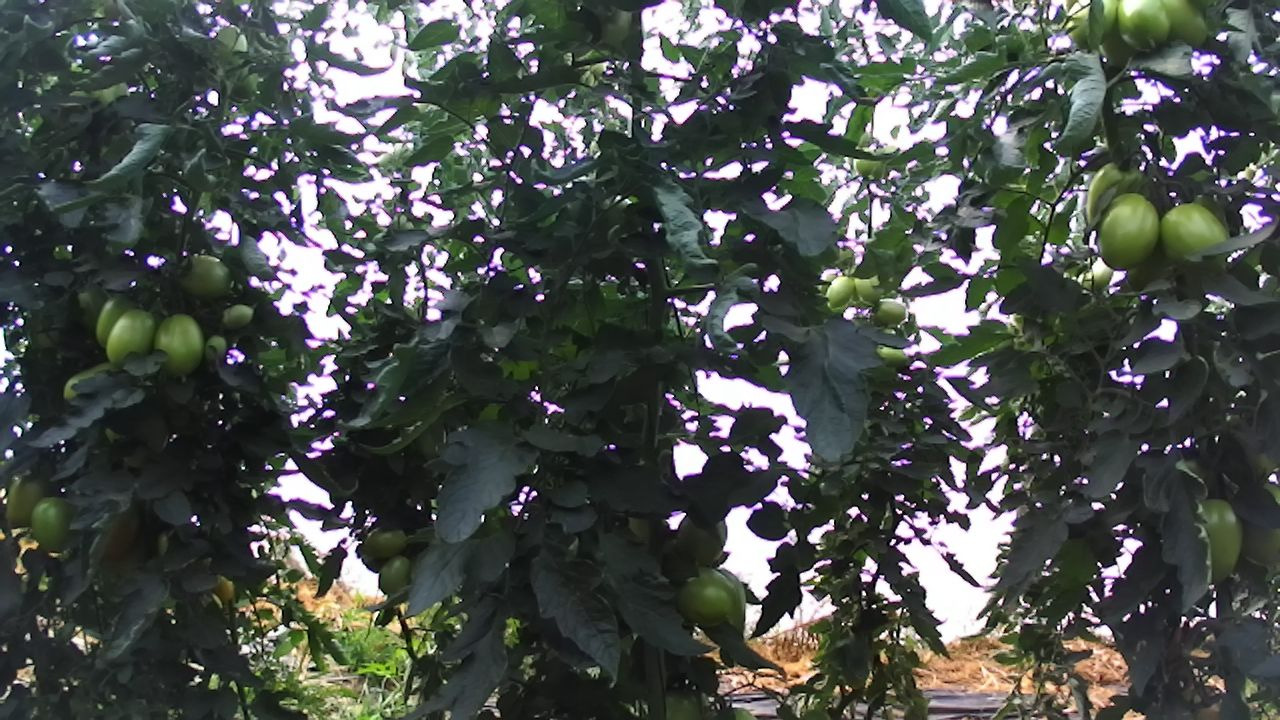tomato: (1089, 188, 1163, 275), (1187, 489, 1248, 591), (675, 559, 742, 632), (1155, 199, 1229, 265), (152, 309, 205, 382), (1112, 0, 1172, 56), (28, 493, 80, 555), (104, 309, 155, 371), (1159, 0, 1211, 55), (176, 253, 233, 302), (360, 524, 409, 564), (376, 554, 414, 597), (219, 298, 257, 335), (823, 274, 856, 310), (201, 330, 231, 366), (874, 296, 908, 327)
